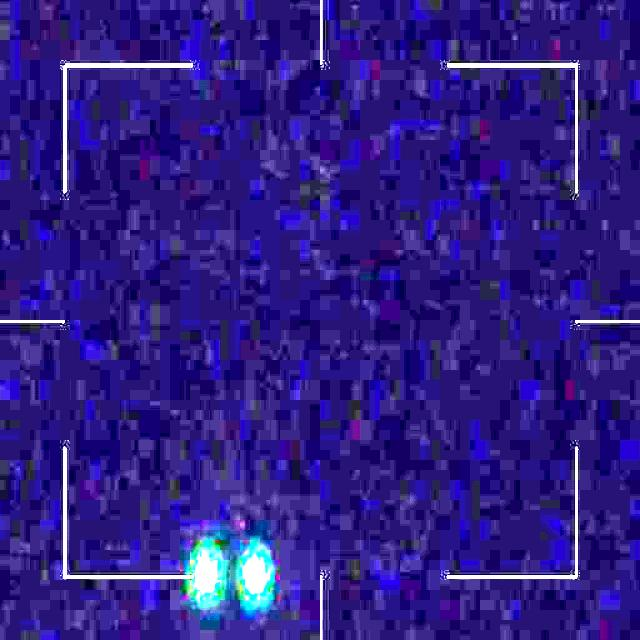bird: (192, 550, 269, 602)
